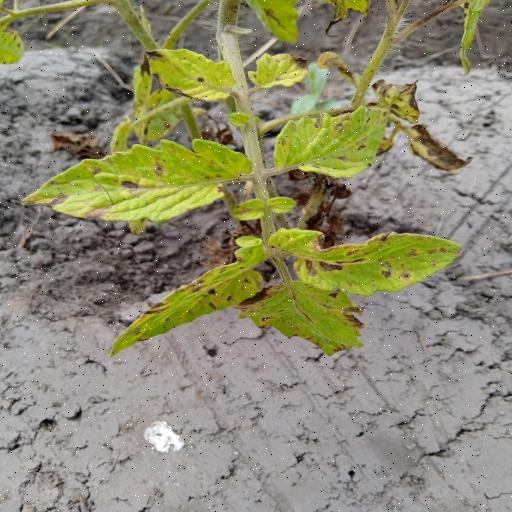Tomato_Brown_Spots: (17, 138, 250, 223), (107, 262, 264, 358), (297, 226, 471, 296), (240, 279, 371, 358), (268, 104, 396, 176)
